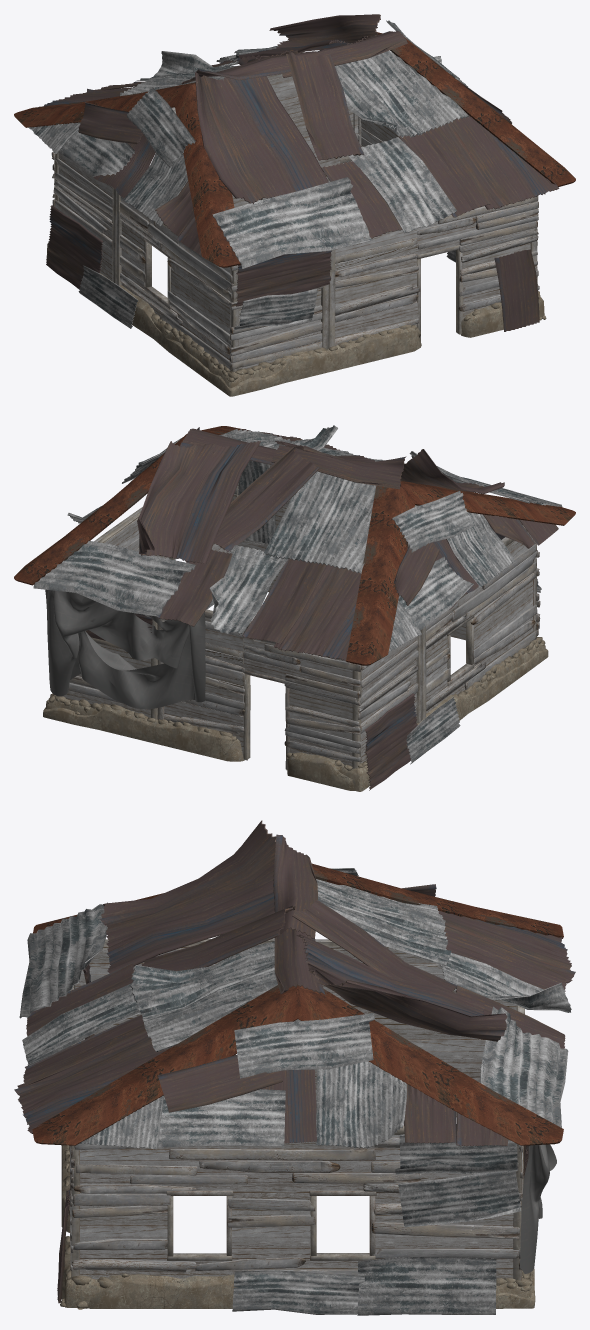
The model's file is SM_Ind_Shack_Exterior01.fbx.
The picture shows the model from 3 angles, top to bottom: view 1: azimuth 30°, elevation 25°; view 2: azimuth 150°, elevation 25°; view 3: azimuth 270°, elevation 25°; orthographic projection. The views are drawn at different scales.
Parts seen in each view (by area): view 1: SM_Ind_Shack_Exterior01.mo; view 2: SM_Ind_Shack_Exterior01.mo; view 3: SM_Ind_Shack_Exterior01.mo.
Boxes of the visible parts, x1,y1,x2,y2 form: SM_Ind_Shack_Exterior01.mo: (14, 14, 575, 396); SM_Ind_Shack_Exterior01.mo: (14, 425, 575, 791); SM_Ind_Shack_Exterior01.mo: (14, 820, 575, 1315).
Bounding box in the file's own units: 1261 × 843 × 1310.
